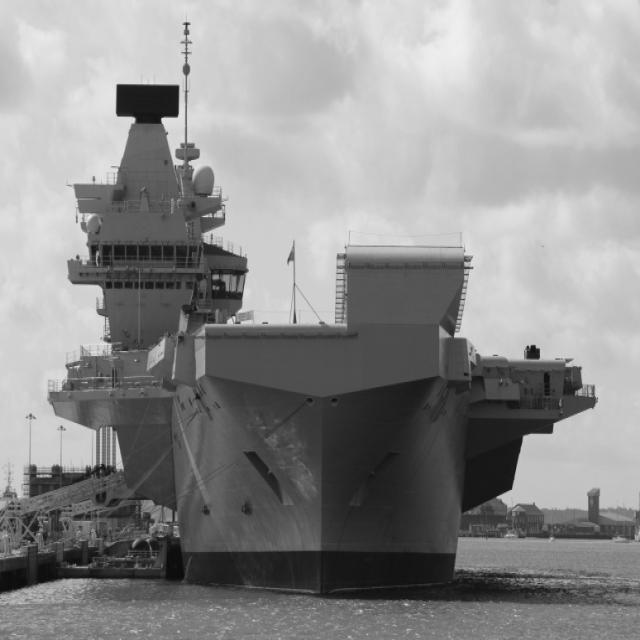Portanaves: (48, 17, 603, 603)
